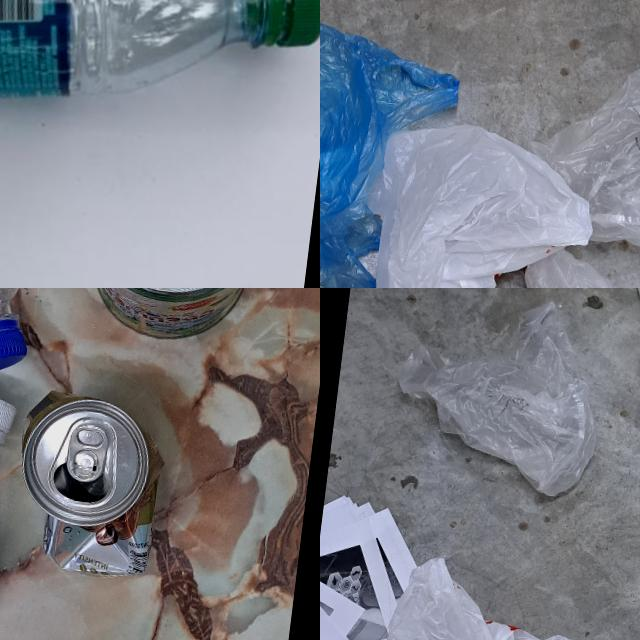aba de lata: (64, 421, 109, 482)
garrafa plástica: (0, 0, 267, 141)
lata: (5, 384, 174, 582), (70, 288, 280, 350)
papel: (320, 491, 425, 640)
sacola plástica: (320, 0, 640, 288), (391, 288, 613, 502), (367, 549, 632, 640)
tampa plástica: (239, 0, 320, 55), (0, 313, 27, 384), (0, 384, 17, 440)
